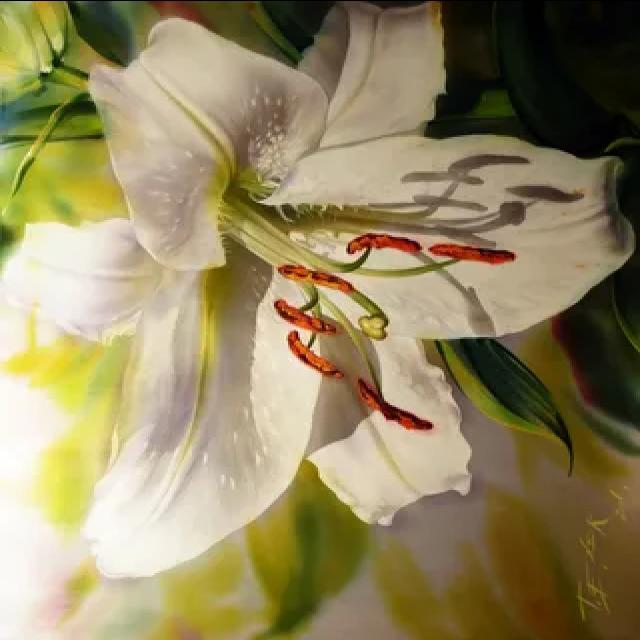lily: (8, 0, 638, 586)
